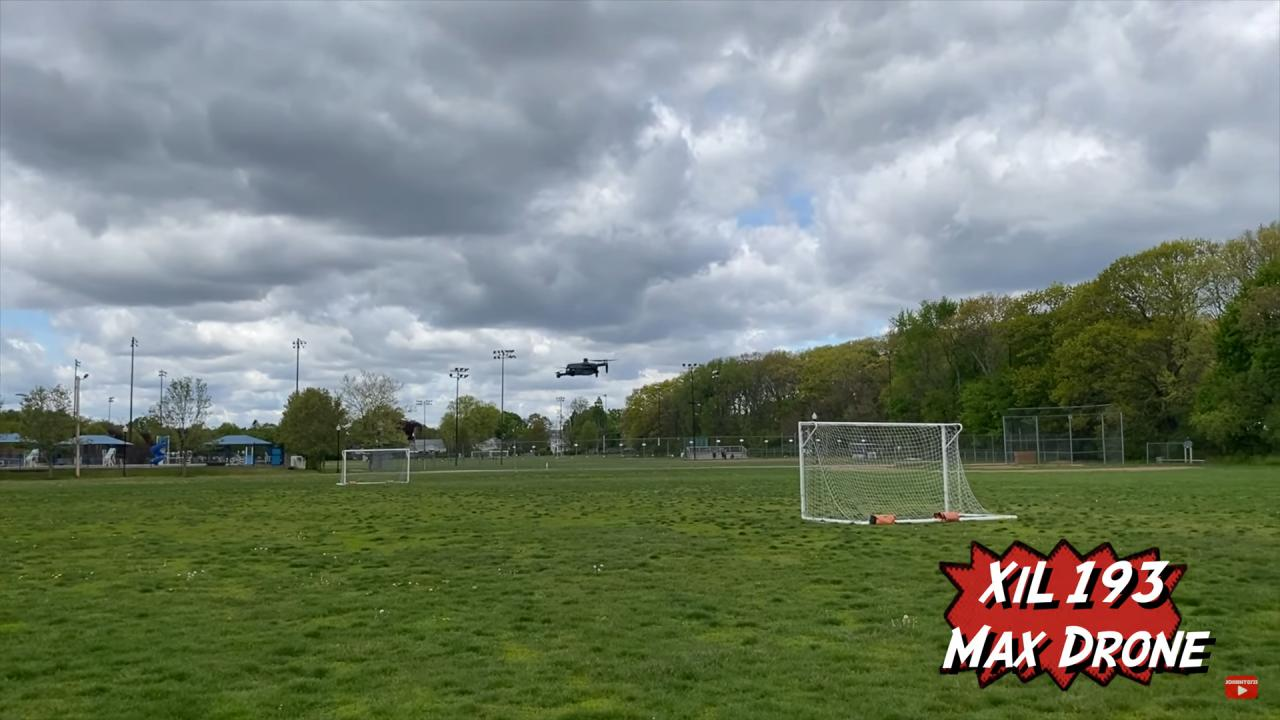Drone: (544, 346, 624, 386)
